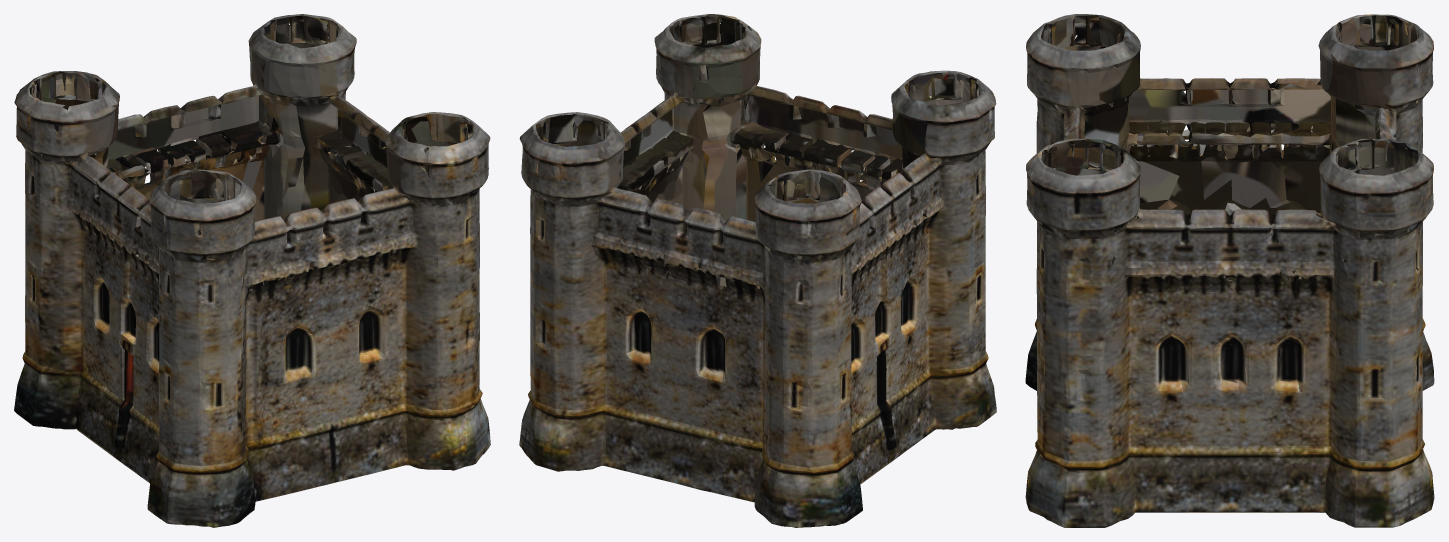
File: mdl_castle_keep_001.glb
3 renders of one model, left to right at view 1: azimuth 30°, elevation 25°; view 2: azimuth 150°, elevation 25°; view 3: azimuth 270°, elevation 25°, orthographic. The views are drawn at different scales.
Parts seen in each view (by area): view 1: tmpz5jihyx9.ply; view 2: tmpz5jihyx9.ply; view 3: tmpz5jihyx9.ply.
Boxes of the visible parts, x1,y1,x2,y2 form: tmpz5jihyx9.ply: (14, 14, 490, 527); tmpz5jihyx9.ply: (519, 14, 996, 527); tmpz5jihyx9.ply: (1025, 14, 1434, 527).
Size of the model in its own units: 0.9893 by 0.9312 by 0.9907.
1 material, 1 textured.
